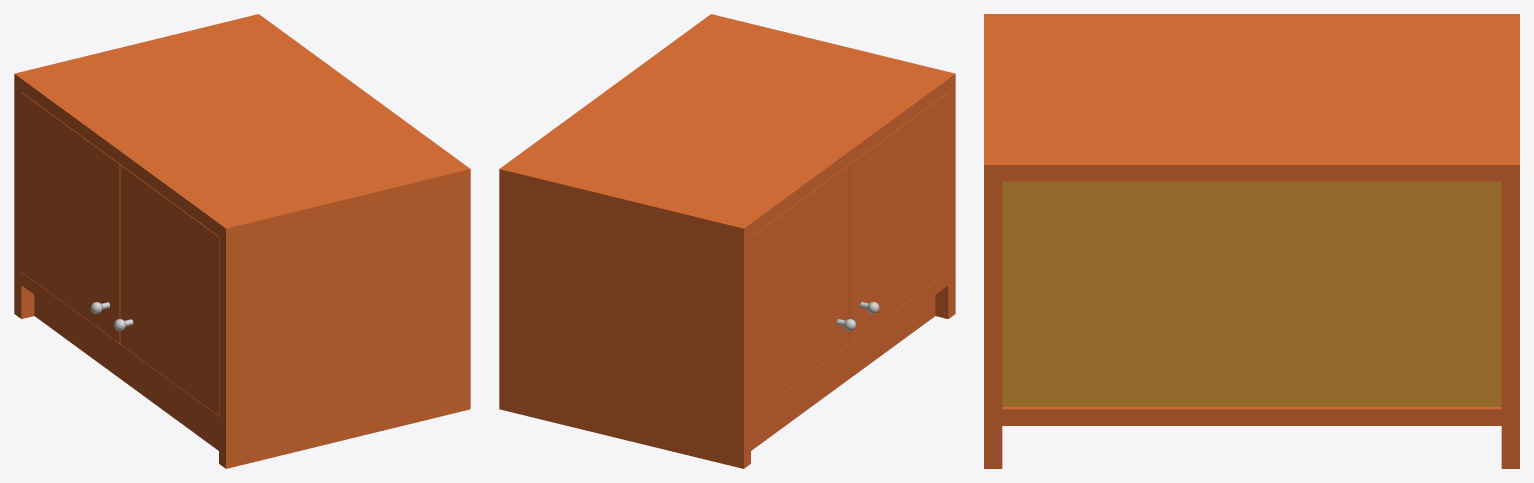
Rendered from Wardrobe_Low_Double_01.fbx.
3 views of the same model, side by side, from view 1: azimuth 30°, elevation 25°; view 2: azimuth 150°, elevation 25°; view 3: azimuth 270°, elevation 25° (orthographic). The views are drawn at different scales.
Visible parts, largest first — view 1: Cube, Cube.001, Cube.003; view 2: Cube, Cube.003, Cube.001; view 3: Cube.002, Cube.
Part boxes in pixels (x1,y1,x2,y2): Cube: (14, 14, 470, 468); Cube.001: (20, 92, 120, 343); Cube.003: (120, 165, 219, 416); Cube: (499, 14, 955, 468); Cube.003: (849, 92, 949, 343); Cube.001: (750, 165, 849, 416); Cube.002: (1002, 181, 1501, 406); Cube: (984, 14, 1519, 468).
Size of the model in its own units: 107 by 93.89 by 150.
